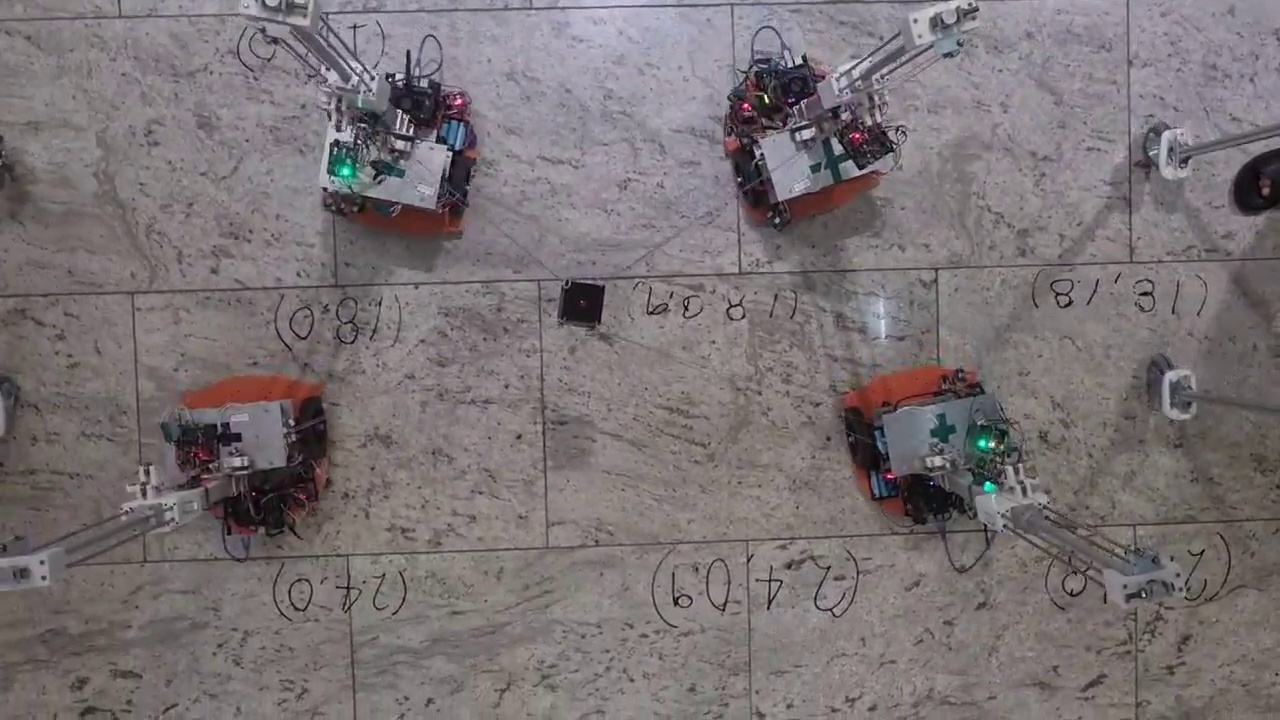e0: (561, 280, 603, 327)
r1: (845, 382, 996, 471)
r2: (728, 104, 875, 207)
r3: (330, 130, 471, 219)
r4: (180, 398, 328, 466)
y_+_axis_vector: (539, 269, 937, 280)
y_-_axis_vector: (132, 278, 539, 292)
